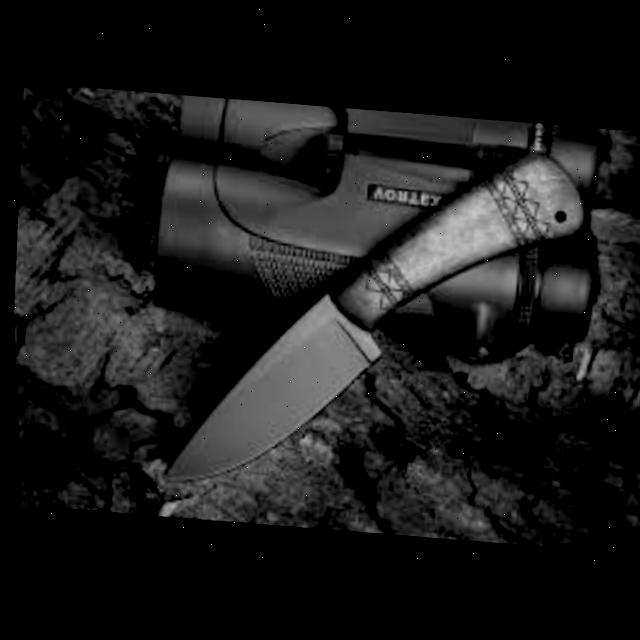knife: (146, 91, 618, 518)
